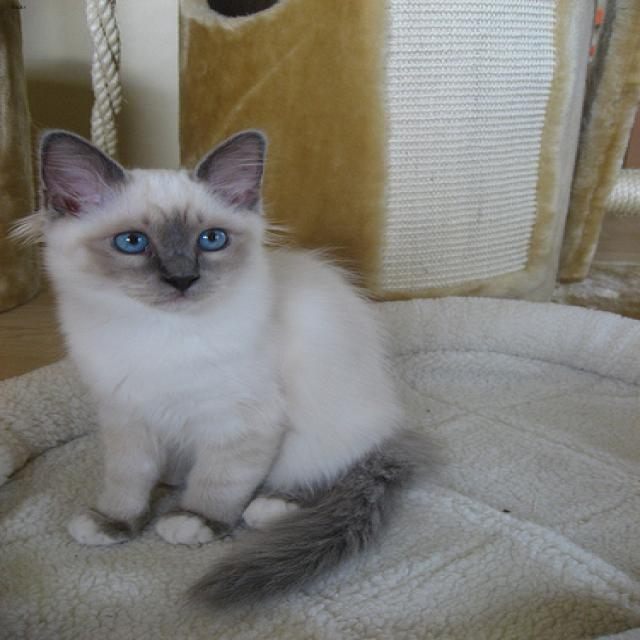Birman: (35, 125, 292, 327)
